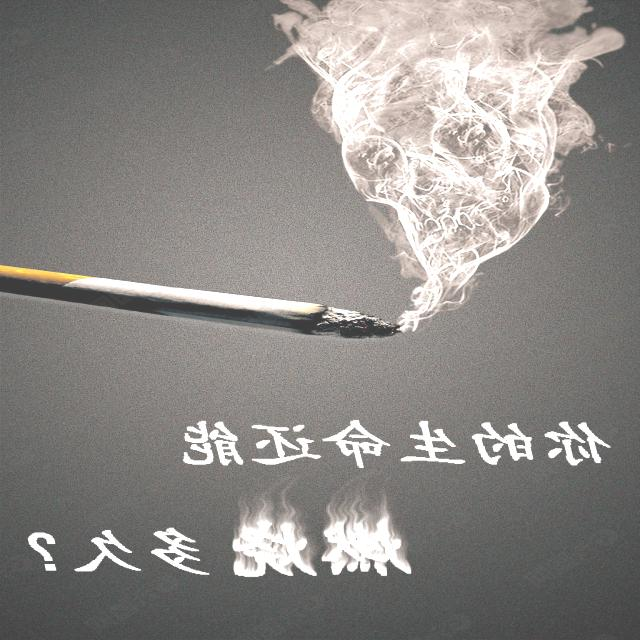smoke: (0, 260, 405, 338)
